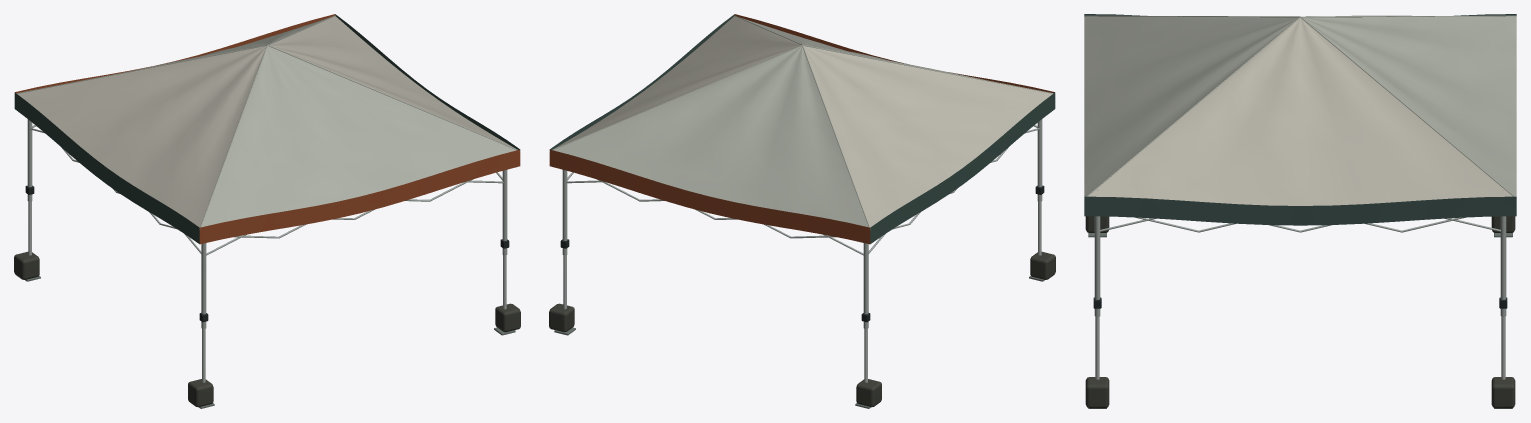
The model's file is canopy-near.glb.
3 renders of one model, left to right at view 1: azimuth 30°, elevation 25°; view 2: azimuth 150°, elevation 25°; view 3: azimuth 270°, elevation 25°, orthographic. The views are drawn at different scales.
Parts seen in each view (by area): view 1: Tensioned sewn canopy roof panel.002, Tensioned sewn canopy roof panel.003, Tensioned sewn canopy roof panel.001, Hanging hemmed valance.002, Hanging hemmed valance.003, Hanging hemmed valance, Hanging hemmed valance.001, Tensioned sewn canopy roof panel, Fabric-covered ballast weight, Fabric-covered ballast weight.001, Fabric-covered ballast weight.003, Telescoping upper canopy leg.001 (+1 smaller); view 2: Tensioned sewn canopy roof panel, Tensioned sewn canopy roof panel.003, Tensioned sewn canopy roof panel.001, Hanging hemmed valance, Hanging hemmed valance.003, Hanging hemmed valance.002, Tensioned sewn canopy roof panel.002, Hanging hemmed valance.001, Fabric-covered ballast weight.001, Fabric-covered ballast weight, Fabric-covered ballast weight.002, Telescoping upper canopy leg (+1 smaller); view 3: Tensioned sewn canopy roof panel.001, Tensioned sewn canopy roof panel.002, Tensioned sewn canopy roof panel, Hanging hemmed valance.001, Fabric-covered ballast weight.002, Fabric-covered ballast weight.003, Telescoping upper canopy leg.003, Telescoping upper canopy leg.002, Raised stitched hip seam.001, Raised stitched hip seam.002.
Part boxes in pixels (box(x1,y1,x2,y2)): Tensioned sewn canopy roof panel.002: box(201, 46, 516, 227); Tensioned sewn canopy roof panel.003: box(17, 46, 266, 227); Tensioned sewn canopy roof panel.001: box(269, 16, 515, 148); Hanging hemmed valance.002: box(199, 149, 520, 244); Hanging hemmed valance.003: box(14, 92, 199, 243); Hanging hemmed valance: box(15, 14, 335, 93); Hanging hemmed valance.001: box(335, 14, 519, 149); Tensioned sewn canopy roof panel: box(137, 18, 328, 69); Fabric-covered ballast weight: box(14, 251, 39, 279); Fabric-covered ballast weight.001: box(188, 379, 213, 407); Fabric-covered ballast weight.003: box(495, 303, 520, 332); Telescoping upper canopy leg.001: box(201, 220, 206, 328); Tensioned sewn canopy roof panel: box(553, 46, 868, 227); Tensioned sewn canopy roof panel.003: box(803, 45, 1052, 227); Tensioned sewn canopy roof panel.001: box(554, 16, 800, 148); Hanging hemmed valance: box(549, 149, 870, 244); Hanging hemmed valance.003: box(870, 92, 1055, 243); Hanging hemmed valance.002: box(734, 14, 1054, 93); Tensioned sewn canopy roof panel.002: box(740, 17, 982, 79); Hanging hemmed valance.001: box(550, 14, 734, 149); Fabric-covered ballast weight.001: box(1030, 251, 1055, 279); Fabric-covered ballast weight: box(856, 379, 881, 407); Fabric-covered ballast weight.002: box(549, 303, 574, 332); Telescoping upper canopy leg: box(863, 220, 868, 328); Tensioned sewn canopy roof panel.001: box(1088, 18, 1512, 205); Tensioned sewn canopy roof panel.002: box(1084, 16, 1298, 196); Tensioned sewn canopy roof panel: box(1302, 16, 1516, 196); Hanging hemmed valance.001: box(1084, 196, 1516, 225); Fabric-covered ballast weight.002: box(1491, 377, 1515, 408); Fabric-covered ballast weight.003: box(1085, 377, 1109, 408); Telescoping upper canopy leg.003: box(1094, 188, 1100, 316); Telescoping upper canopy leg.002: box(1500, 190, 1506, 316); Raised stitched hip seam.001: box(1300, 16, 1516, 198); Raised stitched hip seam.002: box(1084, 17, 1300, 198).
Size of the model in its own units: 4.67 by 3.56 by 4.61.
